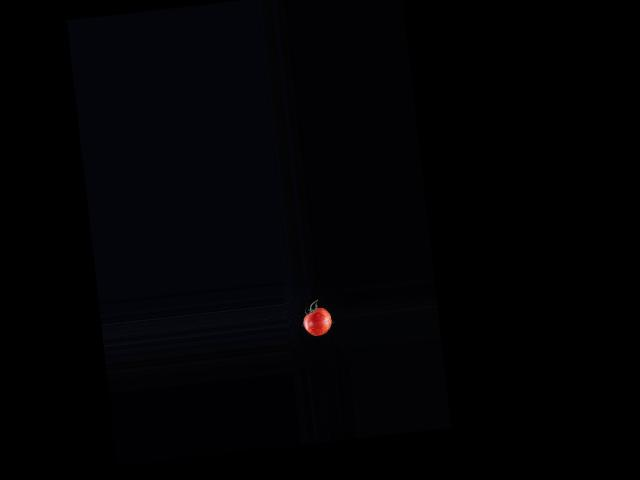tomato: (302, 306, 333, 337)
